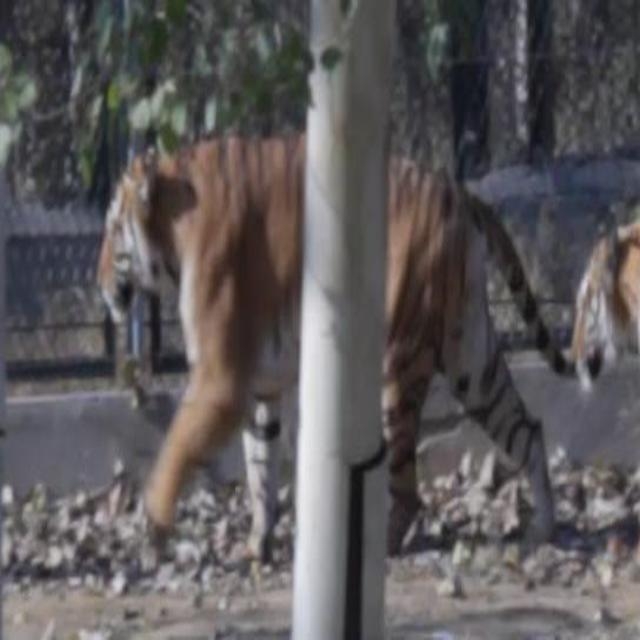tiger: (96, 128, 569, 573), (567, 216, 639, 394)
